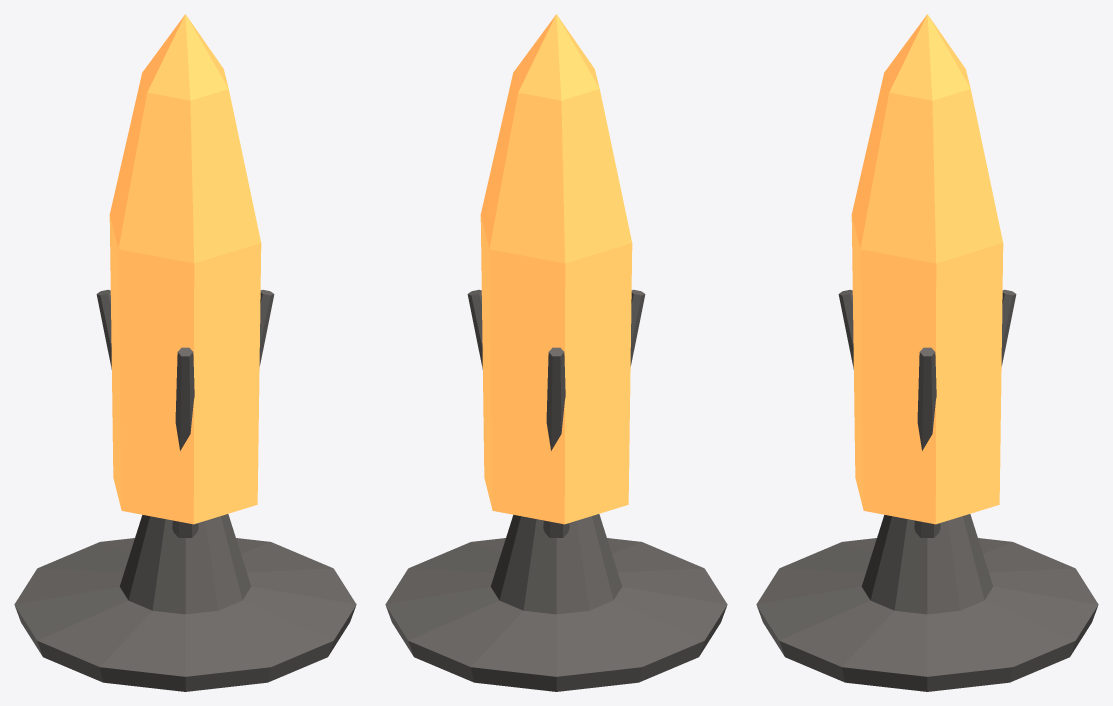
Rendered from refined-ember-shard-v01.glb.
3 views of the same model, side by side, from view 1: azimuth 30°, elevation 25°; view 2: azimuth 150°, elevation 25°; view 3: azimuth 270°, elevation 25° (orthographic).
Visible parts, largest first — view 1: refined-ember-shard; view 2: refined-ember-shard; view 3: refined-ember-shard.
Boxes of the visible parts, left/top/right/bottom form: refined-ember-shard: left=14, top=14, right=356, bottom=691; refined-ember-shard: left=385, top=14, right=727, bottom=691; refined-ember-shard: left=756, top=14, right=1098, bottom=691.
Size of the model in its own units: 0.52 by 1.02 by 0.52.
